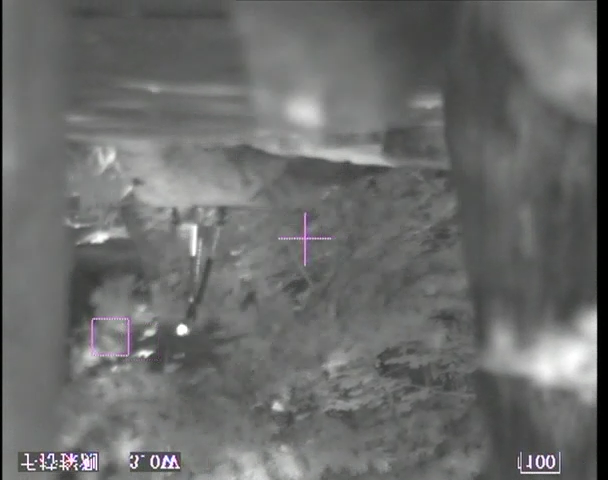my: (174, 323, 188, 337)
